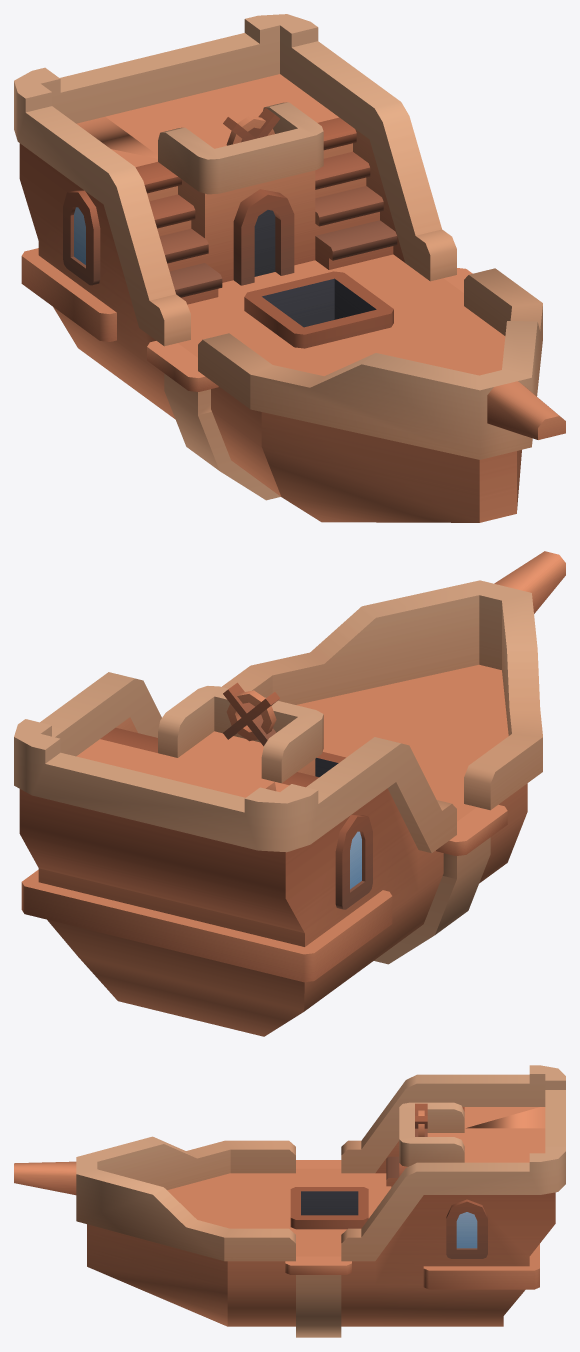
Rendered from ship.fbx.
The picture shows the model from 3 angles, top to bottom: view 1: azimuth 30°, elevation 25°; view 2: azimuth 150°, elevation 25°; view 3: azimuth 270°, elevation 25°; orthographic projection. The views are drawn at different scales.
Parts seen in each view (by area): view 1: ship-medium.001; view 2: ship-medium.001; view 3: ship-medium.001.
Boxes of the visible parts, x1,y1,x2,y2 form: ship-medium.001: [14, 14, 565, 522]; ship-medium.001: [14, 551, 565, 1036]; ship-medium.001: [14, 1065, 565, 1337].
Bounding box in the file's own units: 4.8 × 4.28 × 10.6.
1 material, 1 textured.
